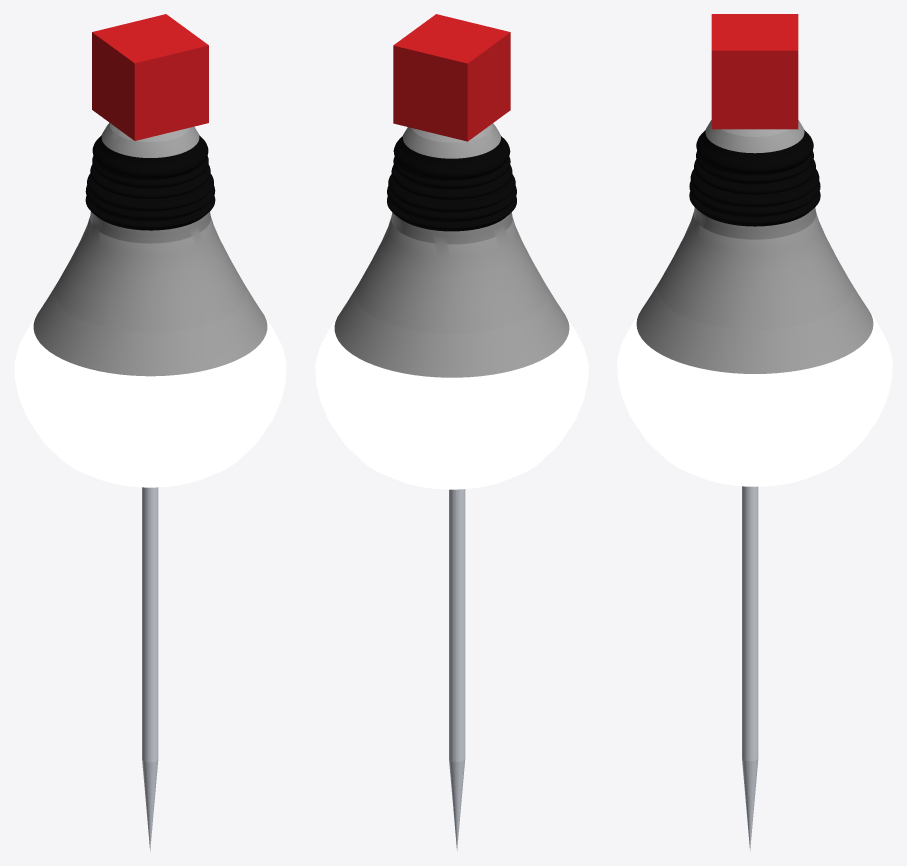
File: lightBulb.gltf
The picture shows the model from 3 angles, left to right: view 1: azimuth 30°, elevation 25°; view 2: azimuth 150°, elevation 25°; view 3: azimuth 270°, elevation 25°; orthographic projection.
Visible parts, largest first — view 1: arrow, ViewFrustum; view 2: arrow, ViewFrustum; view 3: arrow, ViewFrustum.
Boxes of the visible parts, left/top/right/bottom form: arrow: left=14, top=123, right=286, bottom=851; ViewFrustum: left=92, top=14, right=208, bottom=140; arrow: left=315, top=123, right=588, bottom=850; ViewFrustum: left=393, top=14, right=510, bottom=141; arrow: left=617, top=120, right=892, bottom=851; ViewFrustum: left=711, top=14, right=798, bottom=129.
Bounding box in the file's own units: 6.66 × 21.87 × 6.66.
